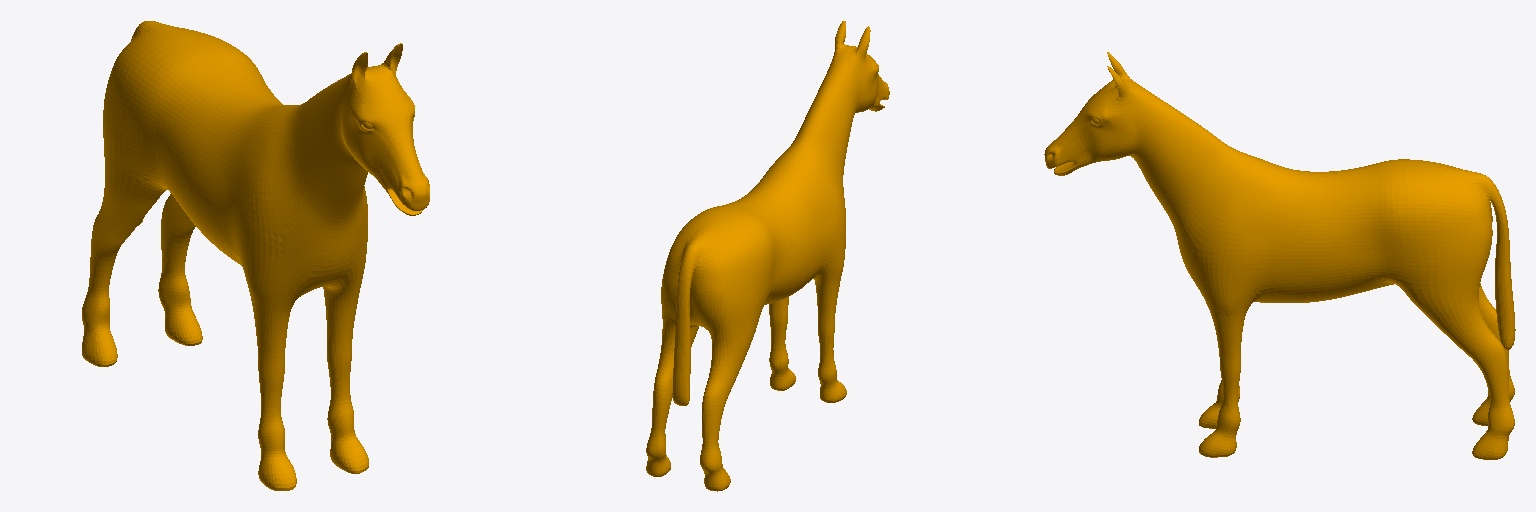
robot.urdf — cube:
<?xml version="1.0" ?>
<robot name="cube">
  <link name="baseLink">
    <inertial>
      <origin rpy="0 0 0" xyz="0 0 0"/>
        <mass value="0.0"/>
        <inertia ixx="0" ixy="0" ixz="0" iyy="0" iyz="0" izz="0"/>
    </inertial>
    <visual>
      <geometry>
        <mesh filename="10026_Horse_v01-it2_centered.obj"/>
      </geometry>
    </visual>
  </link>
</robot>

--- Facts derived from the render (not from the file) ---
Views: 3 orthographic renders of the robot side by side, from view 1: azimuth 30°, elevation 25°; view 2: azimuth 150°, elevation 25°; view 3: azimuth 270°, elevation 25°.
Robot: cube — 1 links, 0 joints (none); root link baseLink; default pose: every joint at zero.
Visible links, largest first — view 1: baseLink; view 2: baseLink; view 3: baseLink.
Link boxes in pixels (x1=…): baseLink: x1=82, y1=21, x2=429, y2=490; baseLink: x1=646, y1=21, x2=889, y2=491; baseLink: x1=1044, y1=52, x2=1515, y2=459.
Size in the robot's own frame: 427 by 1791 by 1599 metres.
Meshes: 1 distinct files referenced, 1 mesh visuals loaded (1 OBJ).